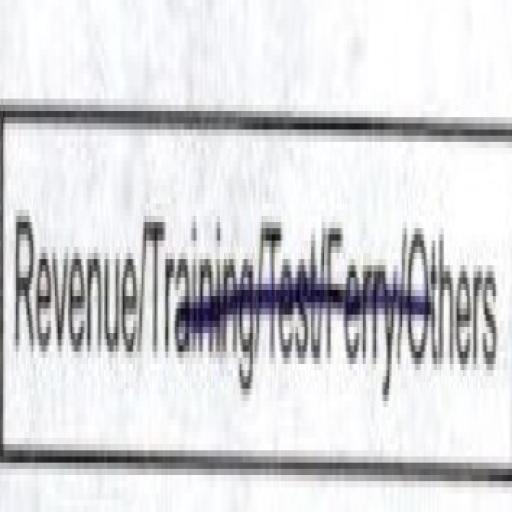check: (4, 72, 142, 470)
